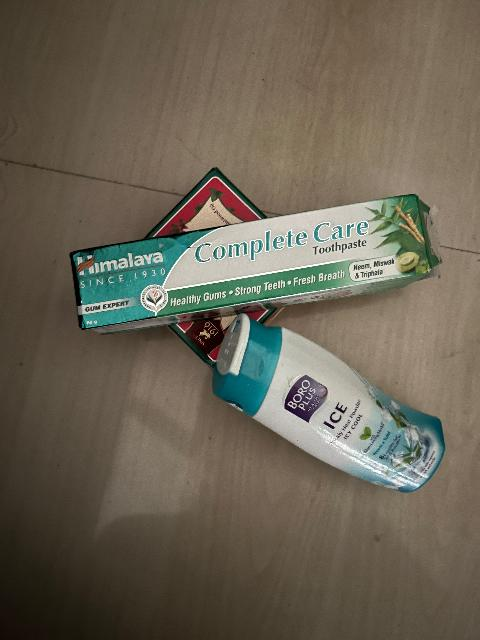boroplus: (222, 311, 448, 498)
himalaya toothpaste: (67, 202, 461, 319)
